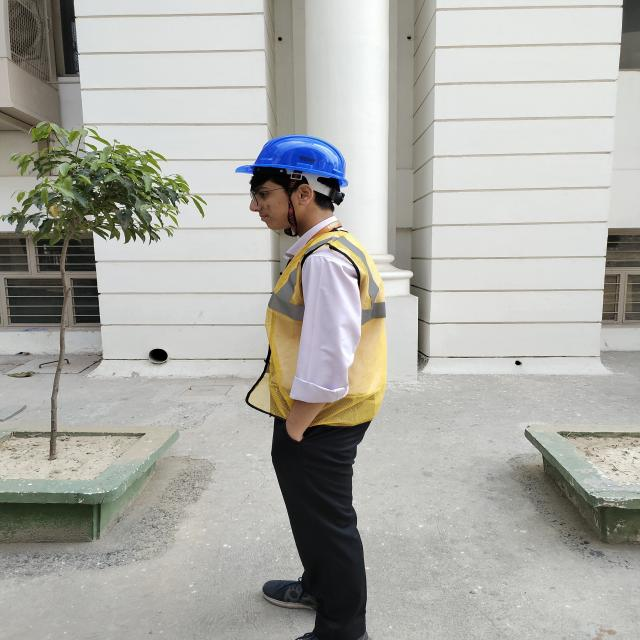safe: (236, 134, 387, 640)
